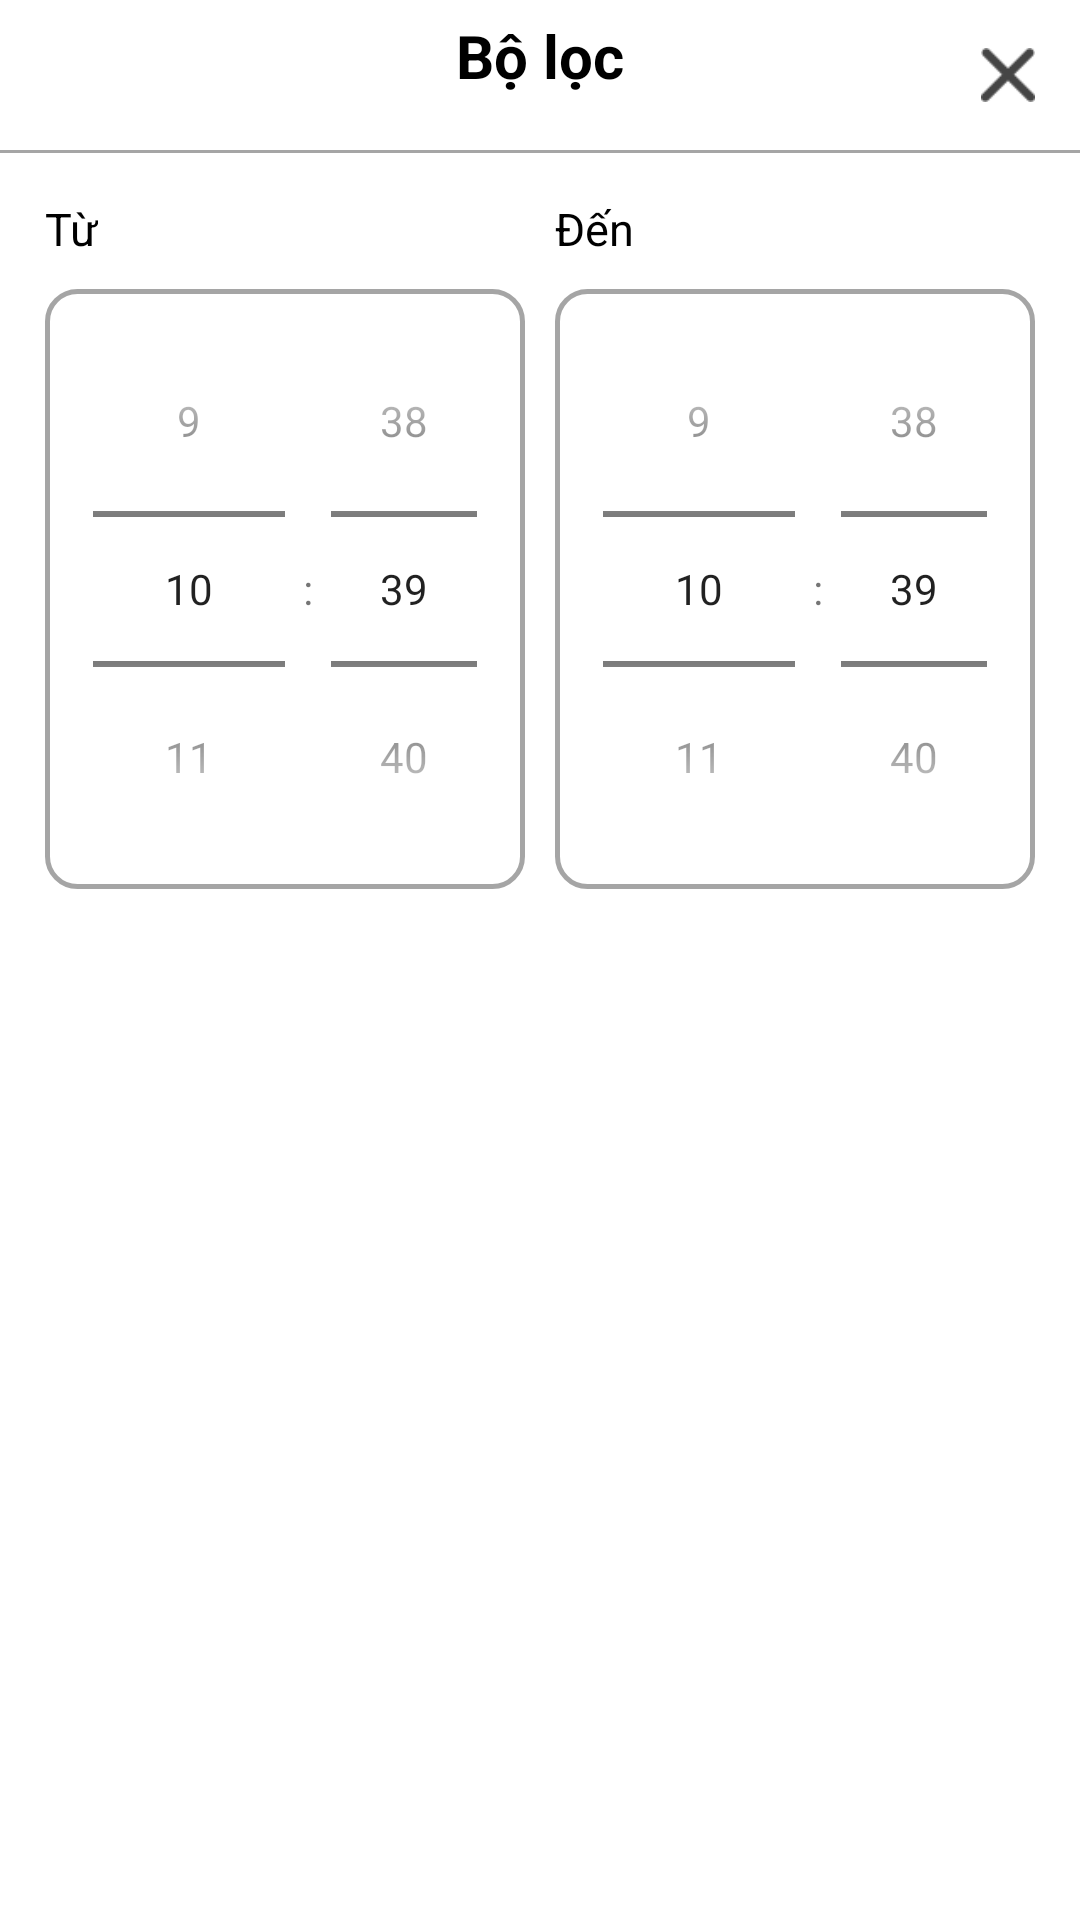

Icon bounding boxes for this 1080px×1920px phone screenshot, format (x1, y1, x2, y2):
multiply: (981, 48, 1035, 102)
